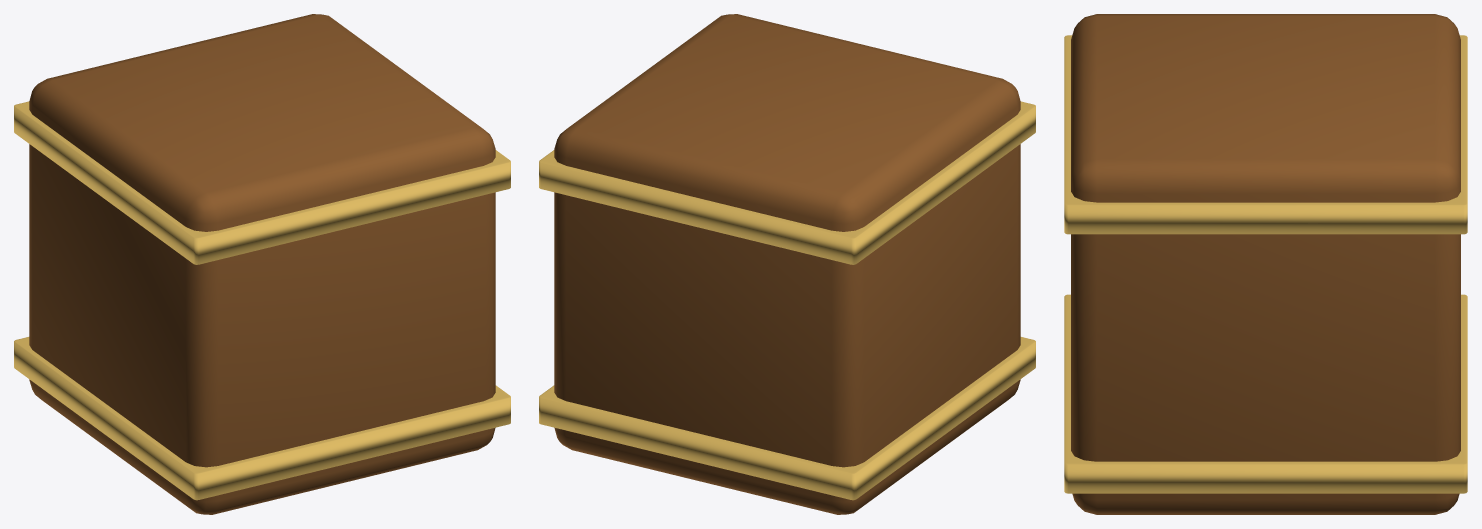
File: caisse.glb
3 renders of one model, left to right at view 1: azimuth 30°, elevation 25°; view 2: azimuth 150°, elevation 25°; view 3: azimuth 270°, elevation 25°, orthographic. The views are drawn at different scales.
Visible parts, largest first — view 1: Cube, Cube.001, Cube.002; view 2: Cube, Cube.001, Cube.002; view 3: Cube, Cube.002, Cube.001.
Boxes of the visible parts, x1,y1,x2,y2 form: Cube: (29,14,495,514); Cube.001: (14,337,510,500); Cube.002: (14,101,510,264); Cube: (554,14,1020,514); Cube.001: (539,337,1035,500); Cube.002: (539,101,1035,264); Cube: (1071,14,1460,514); Cube.002: (1064,35,1467,234); Cube.001: (1064,294,1467,493).
Size of the model in its own units: 0.62 by 0.6 by 0.62.
